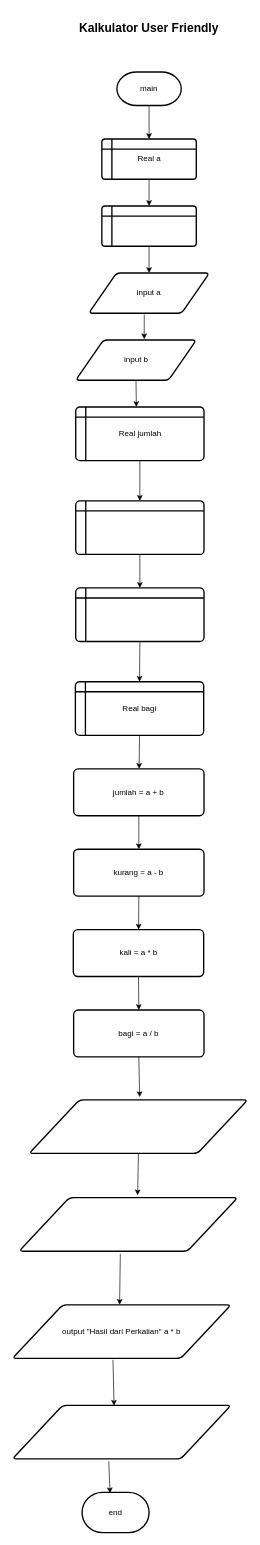
Image size: 260x1545. Some labels were removed from this diagram. Each missing label, with the centre of its shape:
output "Hasil dari Pembagian " a / b: (x=121, y=1431)
output "Hasil dari Pengurangan" a - b: (x=128, y=1224)
output "Hasil dari Penjumlahan " a + b: (x=138, y=1126)
Real b: (x=149, y=226)
Real kali: (x=139, y=614)
Real kurang: (x=139, y=527)
